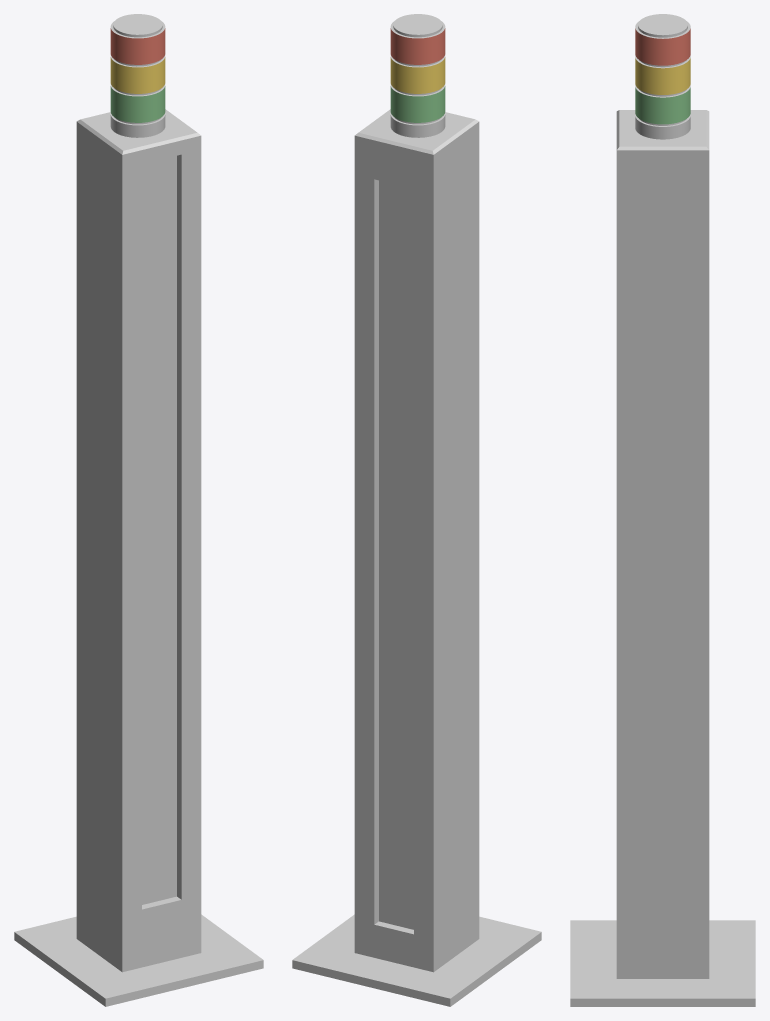
File: Signal_pole.glb
3 renders of one model, left to right at view 1: azimuth 30°, elevation 25°; view 2: azimuth 150°, elevation 25°; view 3: azimuth 270°, elevation 25°, orthographic.
Parts seen in each view (by area): view 1: Body2, Body3; view 2: Body2, Body3; view 3: Body2, Body3.
Part boxes in pixels (x1,y1,x2,y2): Body2: (76, 14, 201, 972); Body3: (14, 914, 263, 1006); Body2: (354, 14, 479, 972); Body3: (292, 914, 541, 1006); Body2: (616, 14, 709, 978); Body3: (570, 920, 755, 1006).
Bounding box in the file's own units: 0.4 × 2.25 × 0.4.
